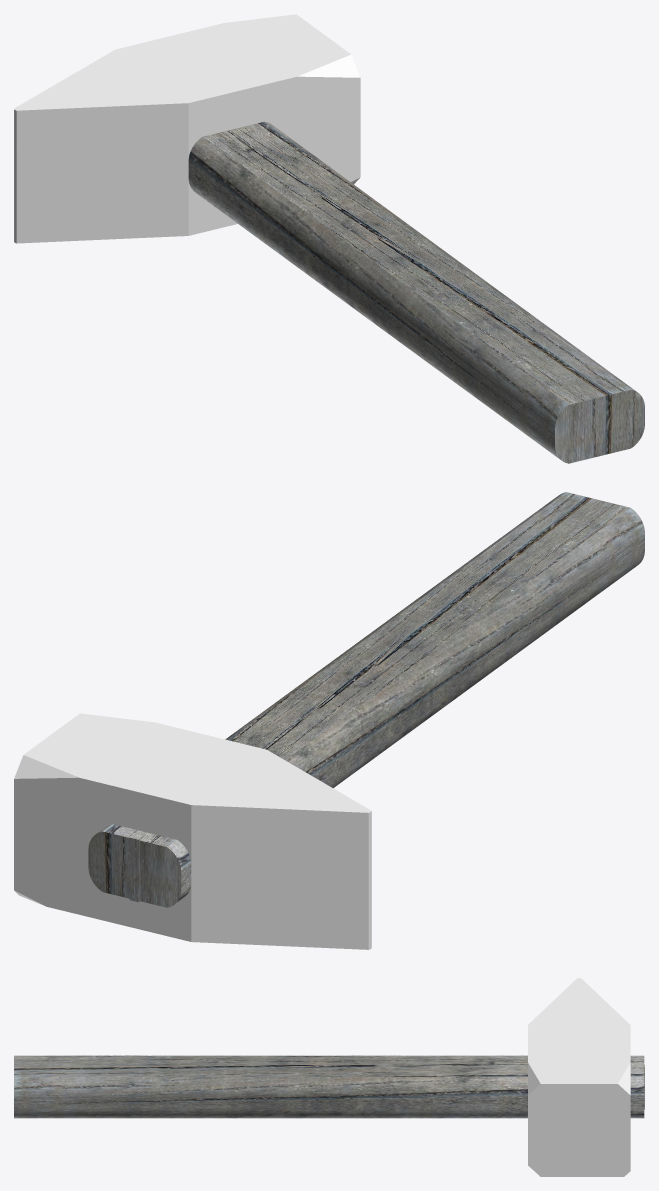
The picture shows the model from 3 angles, top to bottom: view 1: azimuth 30°, elevation 25°; view 2: azimuth 150°, elevation 25°; view 3: azimuth 270°, elevation 25°; orthographic projection. The views are drawn at different scales.
Visible parts, largest first — view 1: Mesh2_Rust_0, Mesh1_Wood1_0; view 2: Mesh2_Rust_0, Mesh1_Wood1_0; view 3: Mesh1_Wood1_0, Mesh2_Rust_0.
Part boxes in pixels (x1=…): Mesh2_Rust_0: x1=14, y1=14, x2=360, y2=243; Mesh1_Wood1_0: x1=188, y1=121, x2=644, y2=463; Mesh2_Rust_0: x1=14, y1=713, x2=371, y2=949; Mesh1_Wood1_0: x1=88, y1=492, x2=644, y2=907; Mesh1_Wood1_0: x1=14, y1=1055, x2=644, y2=1118; Mesh2_Rust_0: x1=528, y1=978, x2=630, y2=1176.
Size of the model in its own units: 0.3996 by 0.164 by 1.01.
2 materials, 1 textured.
